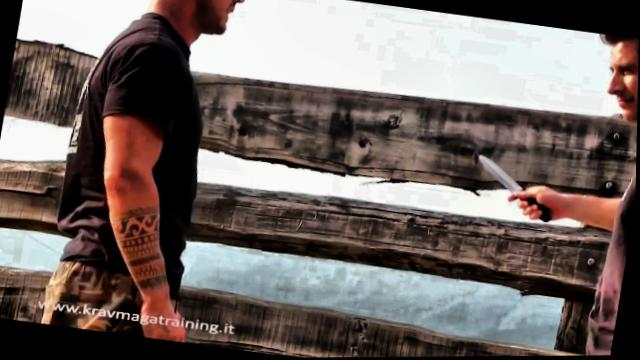knife: (463, 148, 567, 229)
